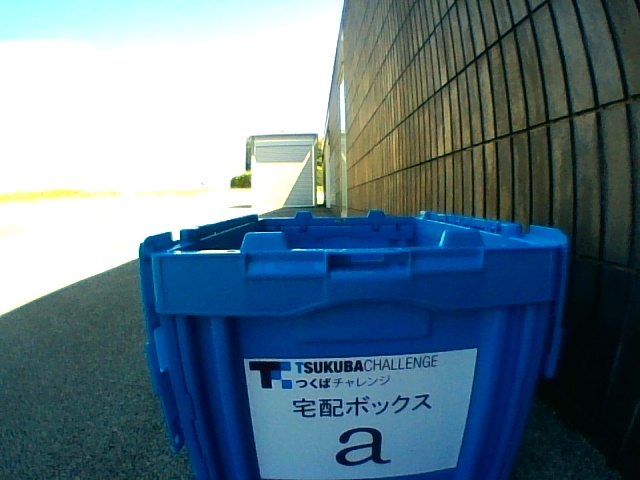blue_box: (139, 210, 568, 480)
tag_a: (285, 374, 430, 471)
